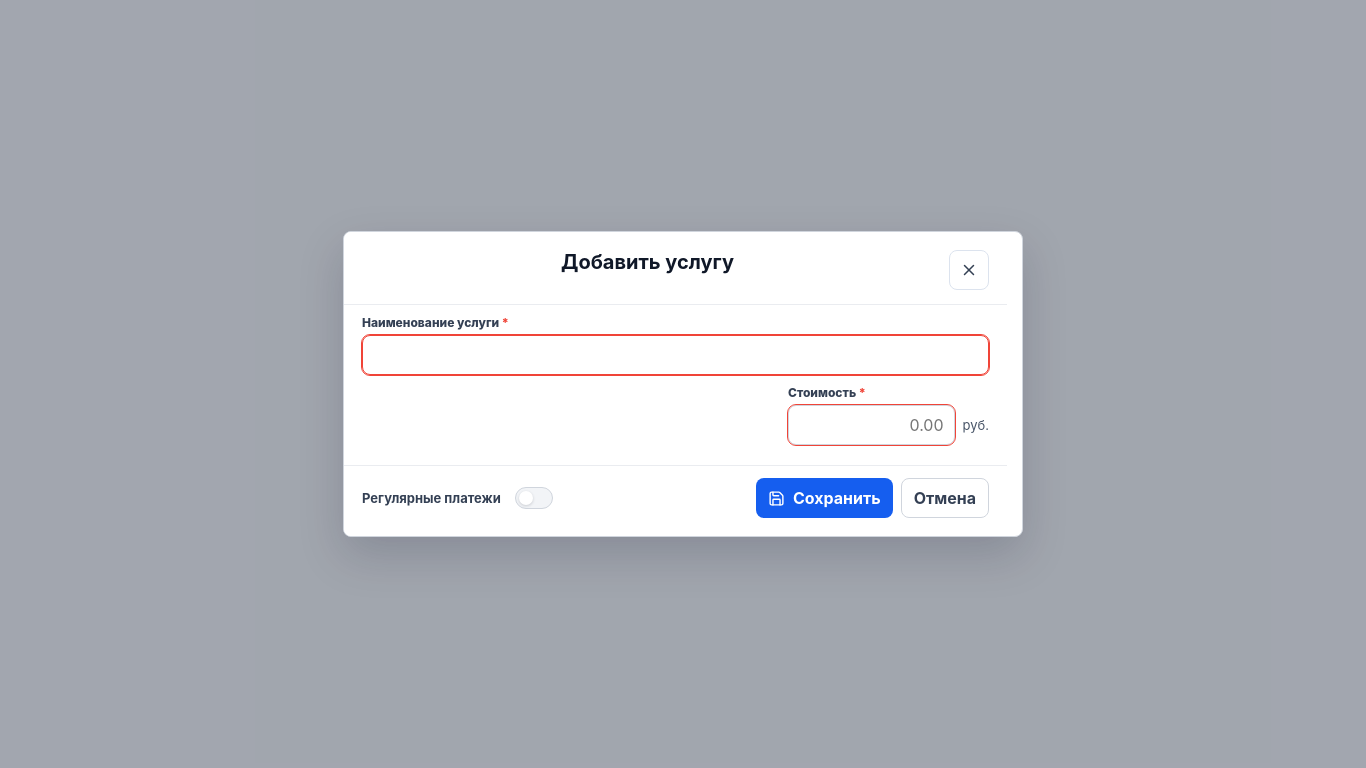
Scenario: редактор тарифной сетки услуги › keeps a new irregular service compact and places the regularity switch on the left side of the action row
Check: the element "Регулярные платежи" is shown, box left=344, top=465, right=1007, bottom=536
Check: the element named "Закрыть форму услуги" is shown, box left=344, top=232, right=1007, bottom=305
What coordinates should you click on to do the following:
click the checkbox labelled "Регулярные платежи"
I would click on:
 (534, 498)
Its box is left=515, top=487, right=553, bottom=509.
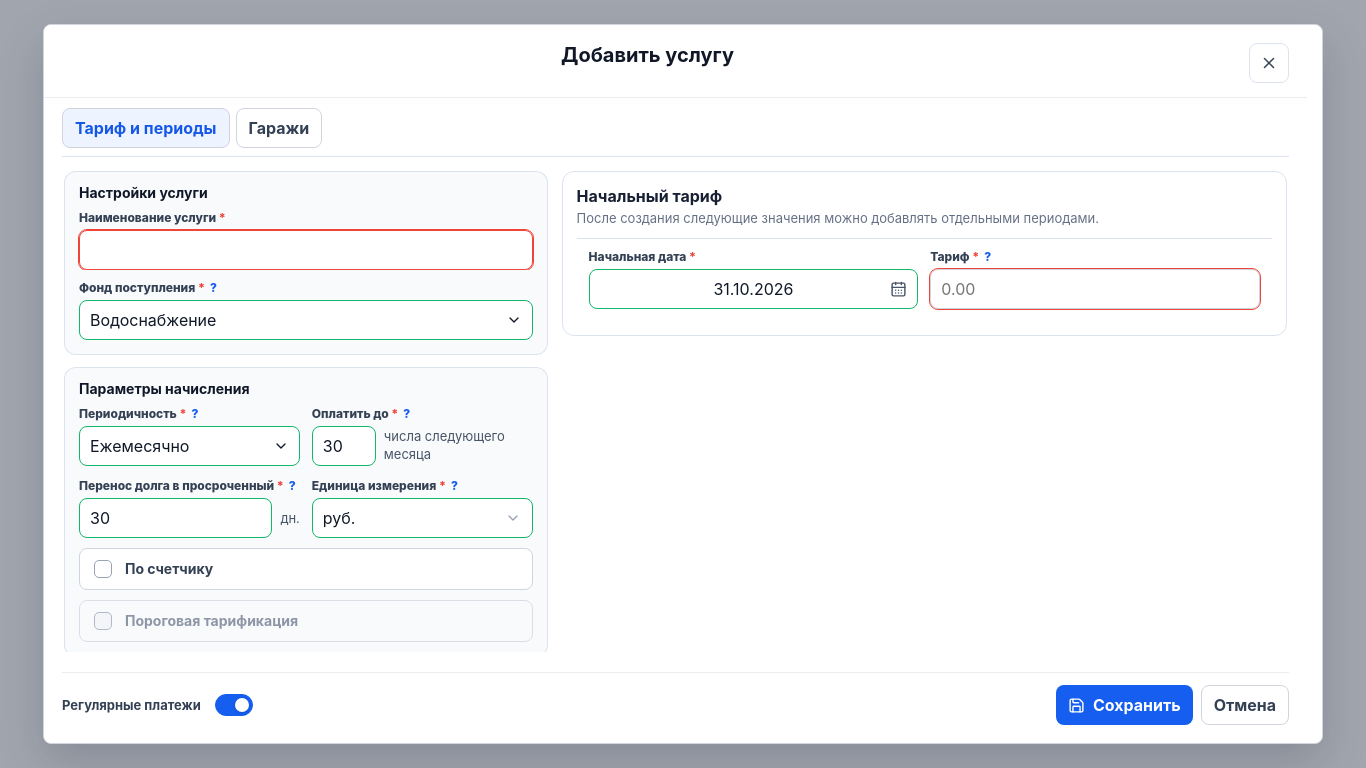
Check: the heading "Начальный тариф" is shown, box left=577, top=186, right=722, bottom=206
What coordinates should you click on to do the following:
click the checkbox labelled "Регулярные платежи"
I would click on:
 (234, 705)
Its box is left=215, top=694, right=253, bottom=716.
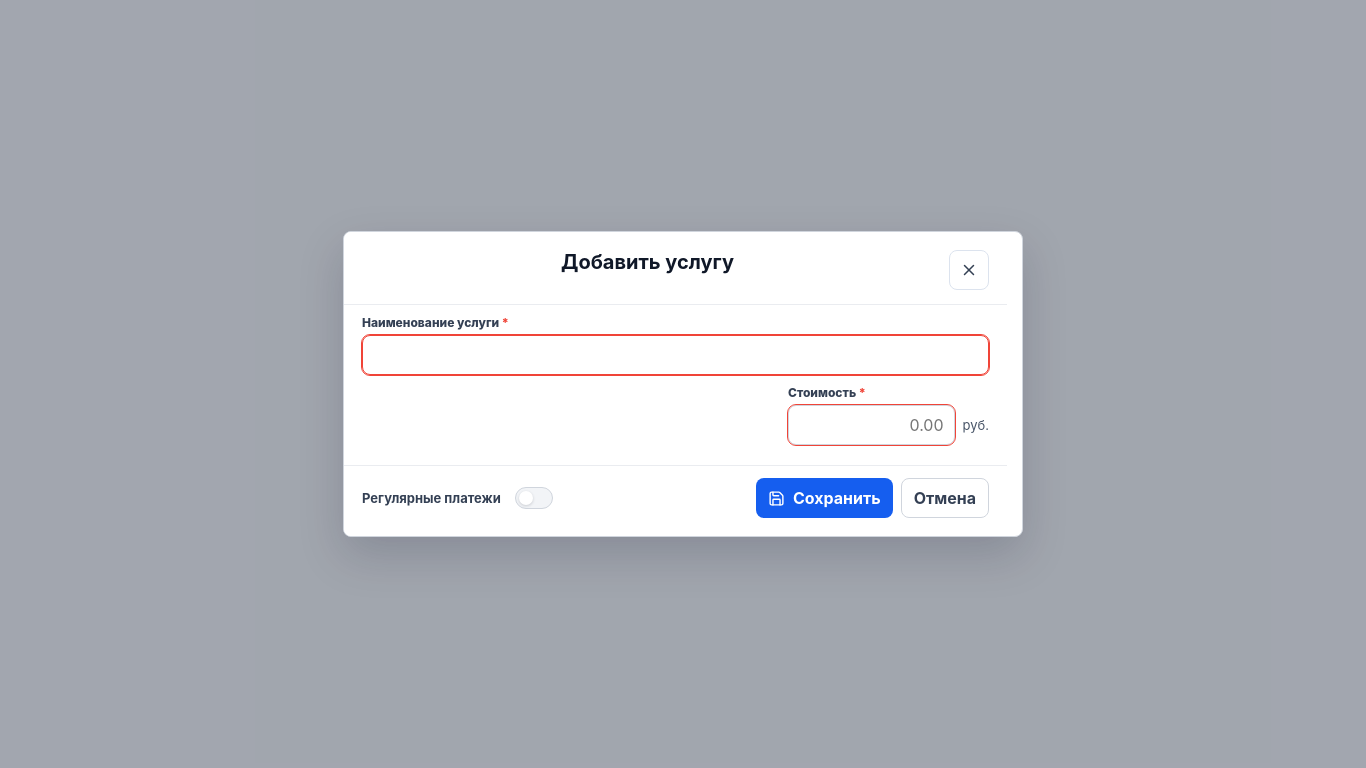
Check: the heading "Начальный тариф" is gone
